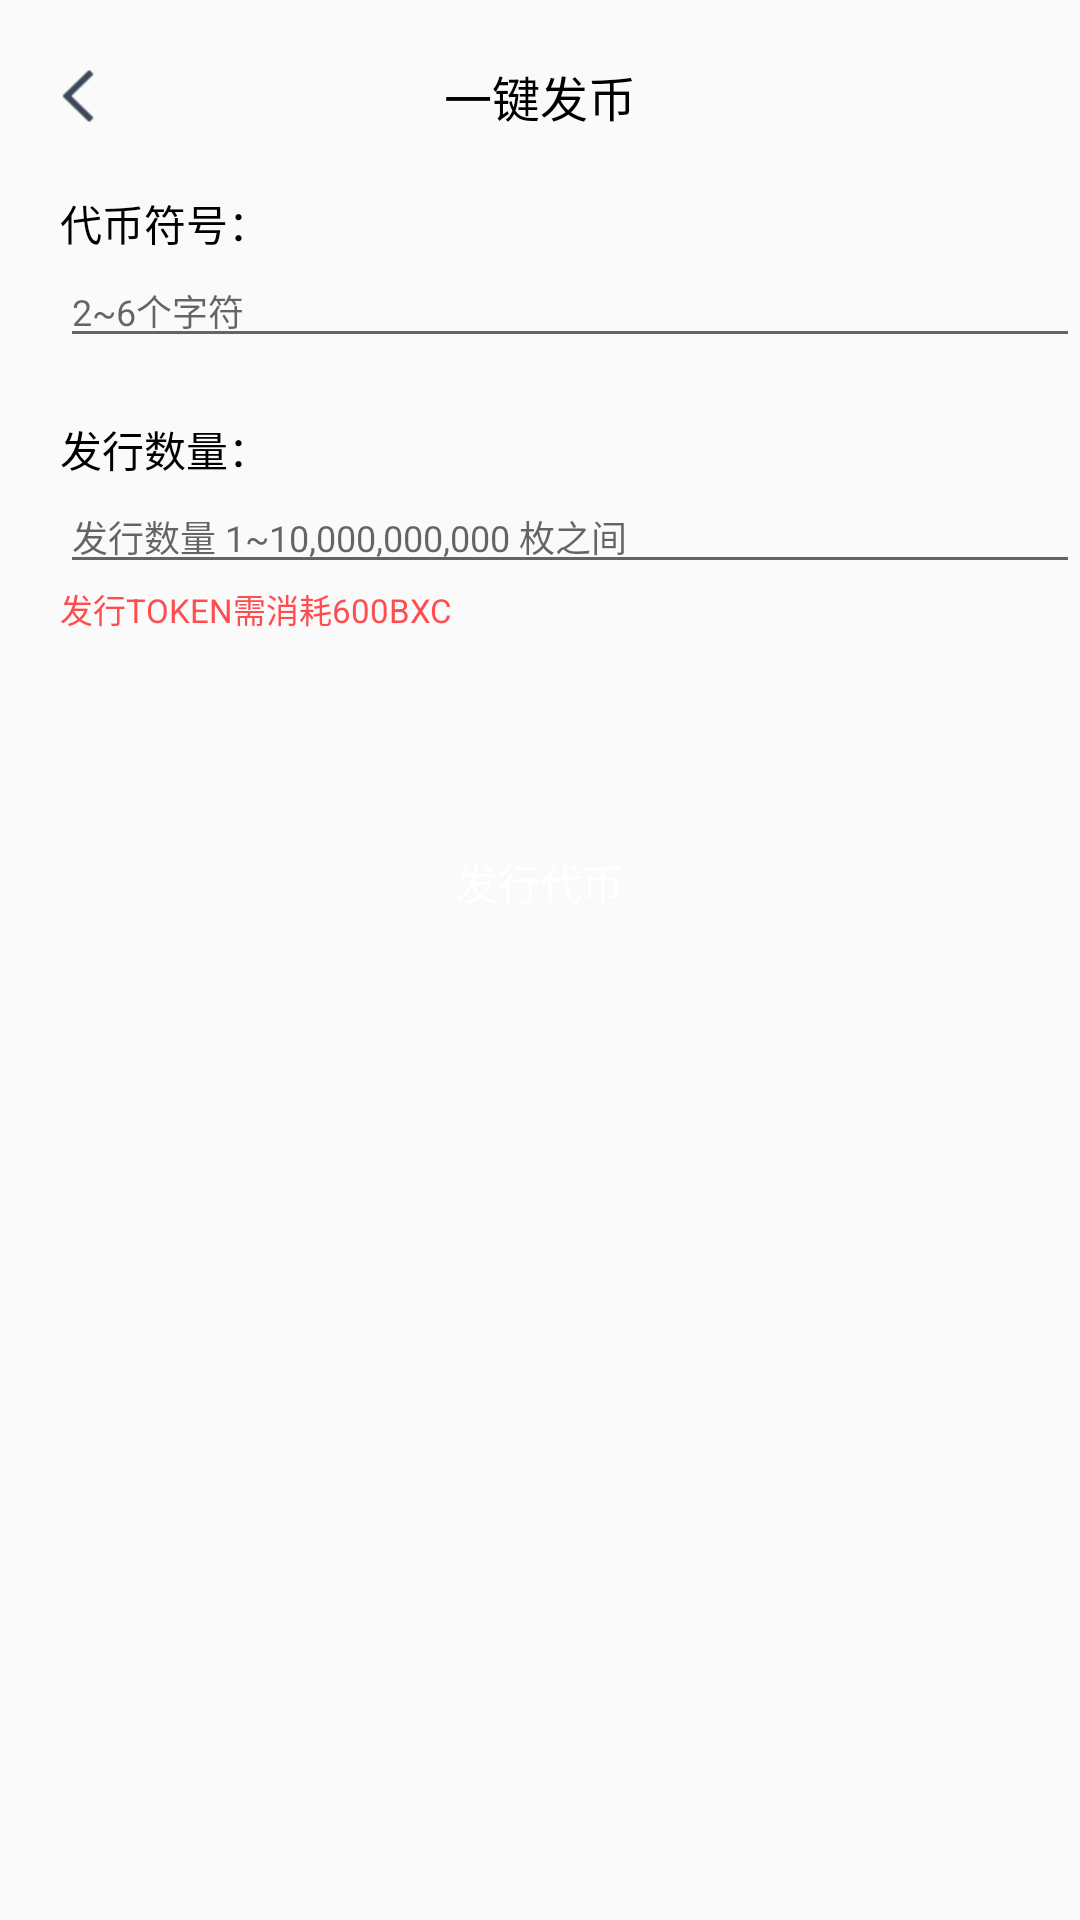

Icons on this 1080px x 1920px Android screen, each with its box as (x1, y1, x2, y2):
aty back: (62, 70, 94, 122)
